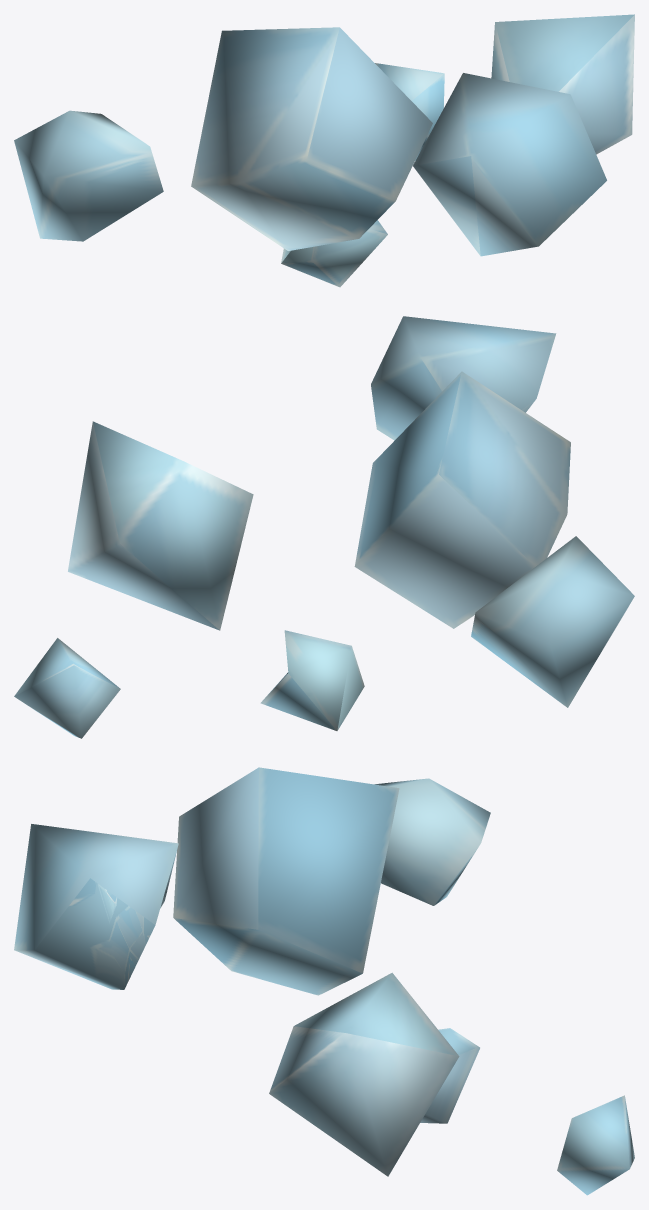
Rendered from Ice_Weapon_Broken_b214dabb__Zombie_Ice_Broken_7d04f9ba_c1f257.obj.
3 views of the same model, one above another, from view 1: azimuth 30°, elevation 25°; view 2: azimuth 150°, elevation 25°; view 3: azimuth 270°, elevation 25° (orthographic). The views are drawn at different scales.
Size of the model in its own units: 1.95 by 1.04 by 1.82.
Materials: 1 (1 with a texture image).
